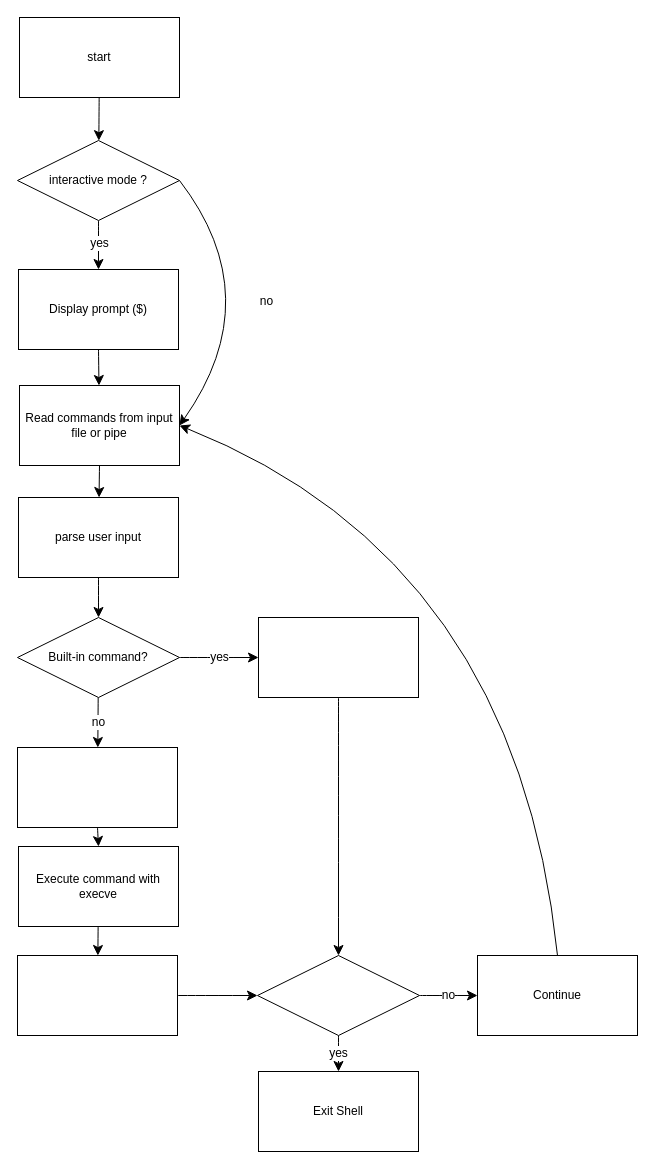
This 655x1169 diagram has some shape labels left out. Here are the shapes that lost their labels. From the top down, the box of each, then its label:
(258, 616, 418, 698): Execute built-in command
(16, 746, 178, 828): Resolve command path
(16, 954, 178, 1036): Wait for command to complete
(256, 954, 420, 1036): Exit command ?
